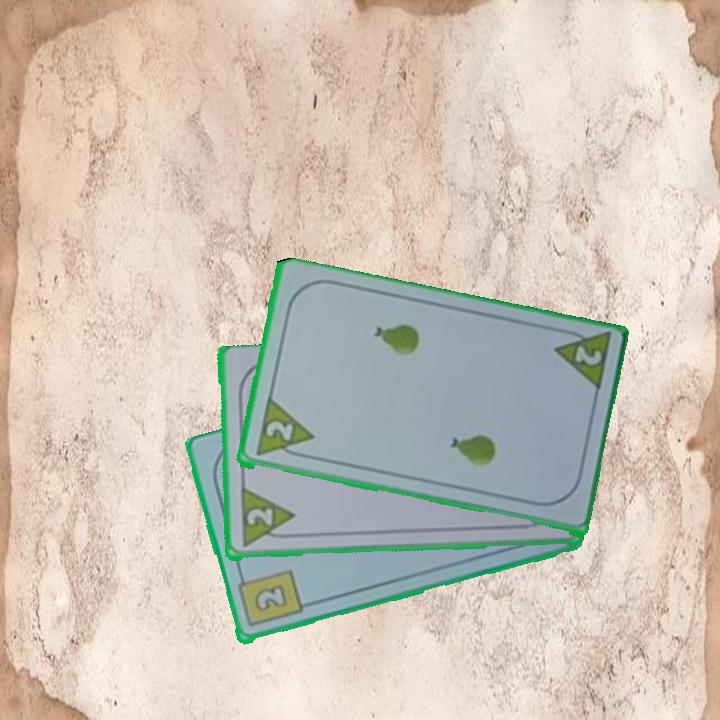2b: (234, 566, 305, 631)
2p: (261, 417, 296, 445), (570, 343, 605, 369), (242, 505, 275, 530)
